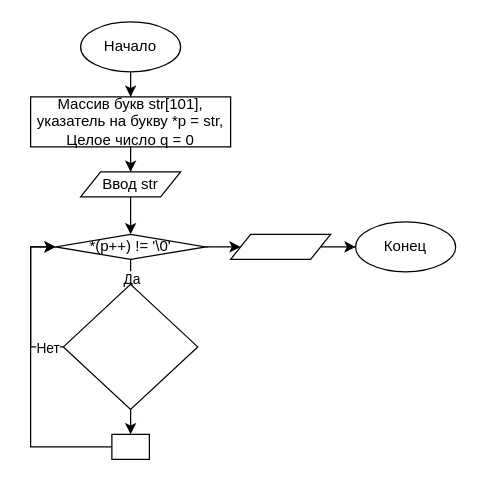
Some shapes in this 478 by 481 pixel diagram are drawn without their labels. The centre of each missing label's shape, as x and y in pixels:
"(*p == ' ' || *p == '\0') && (*(p - 1) == 'E' || *(p - 1) == 'e')" belongs at (130,346).
"++q" belongs at (130,446).
"Вывод q" belongs at (280,246).
